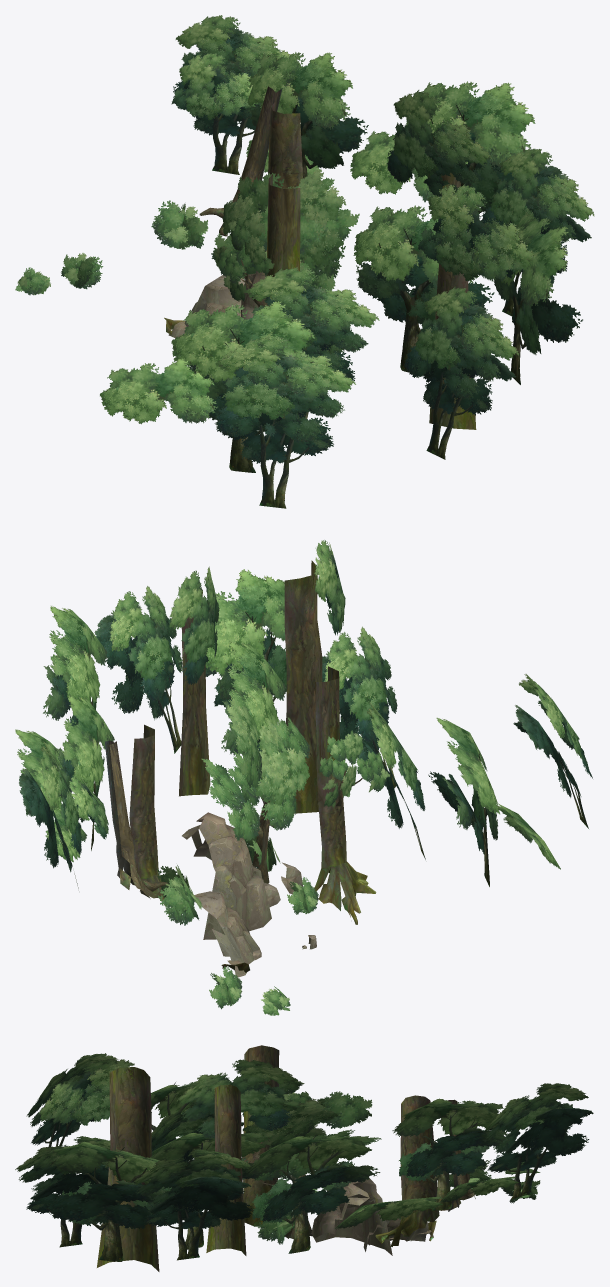
Rendered from shu_10.FBX.
3 views of the same model, one above another, from view 1: azimuth 30°, elevation 25°; view 2: azimuth 150°, elevation 25°; view 3: azimuth 270°, elevation 25° (orthographic). The views are drawn at different scales.
Visible parts, largest first — view 1: shu_10; view 2: shu_10; view 3: shu_10.
Boxes of the visible parts, x1=… form: shu_10: x1=15, y1=15, x2=594, y2=508; shu_10: x1=15, y1=540, x2=592, y2=1015; shu_10: x1=15, y1=1045, x2=593, y2=1271.
Size of the model in its own units: 16.19 by 9.33 by 19.85.
